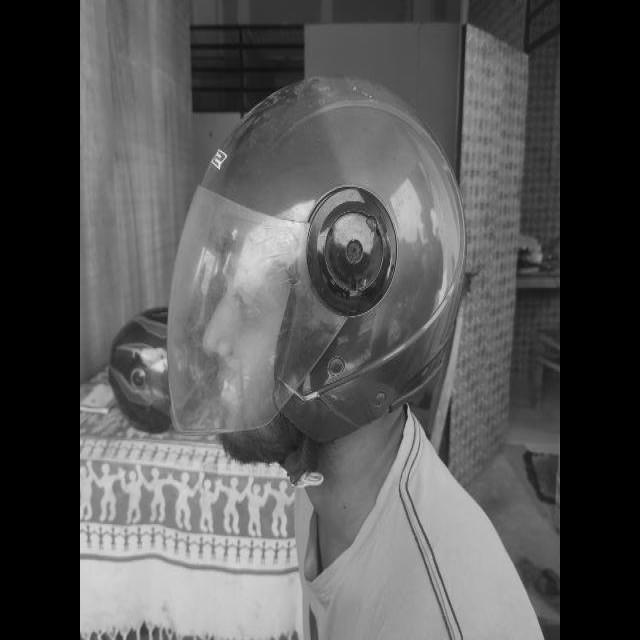5_casco: (168, 74, 466, 438)
